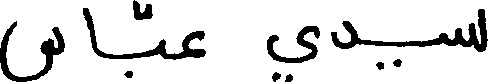ا: (80, 6, 100, 57)
ب: (124, 36, 166, 76)
د: (329, 19, 356, 50)
س: (0, 18, 66, 80), (438, 7, 487, 53)
ع: (180, 28, 205, 59)
ي: (375, 25, 446, 70), (264, 24, 317, 81)
